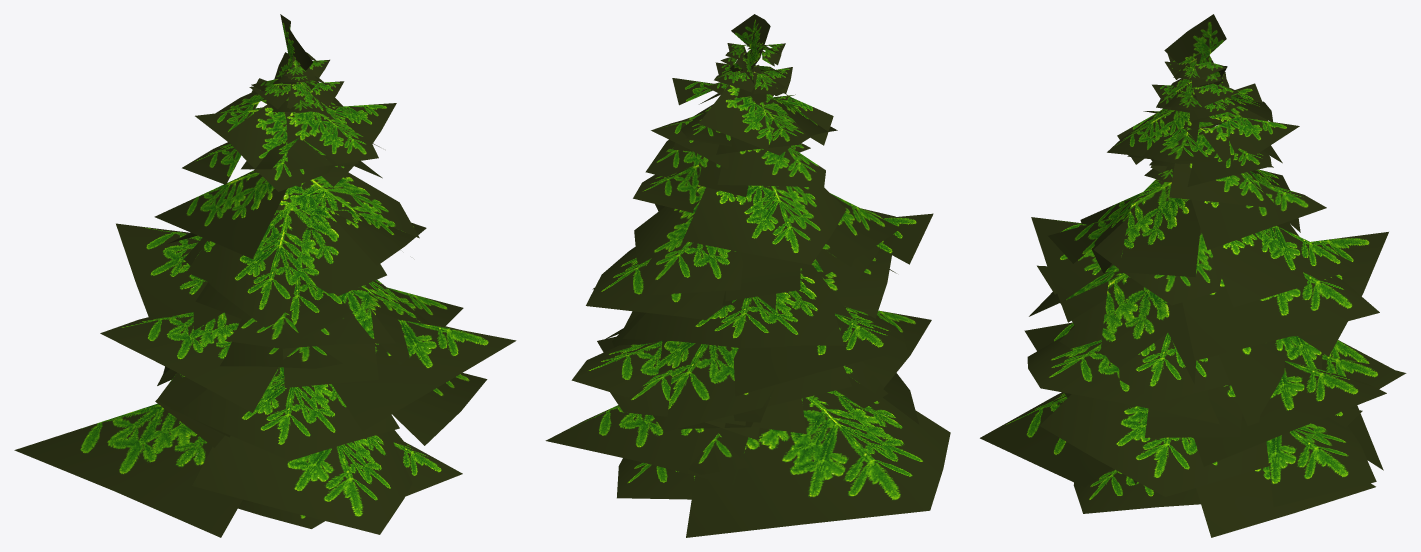
File: tree_pine_simplified.dae
The picture shows the model from 3 angles, left to right: view 1: azimuth 30°, elevation 25°; view 2: azimuth 150°, elevation 25°; view 3: azimuth 270°, elevation 25°; orthographic projection.
Parts seen in each view (by area): view 1: tree_pine_joined; view 2: tree_pine_joined; view 3: tree_pine_joined.
Part boxes in pixels (x1,y1,x2,y2): tree_pine_joined: (14,14,516,537); tree_pine_joined: (545,14,950,537); tree_pine_joined: (980,14,1406,537).
Size of the model in its own units: 4.39 by 4 by 4.83.
